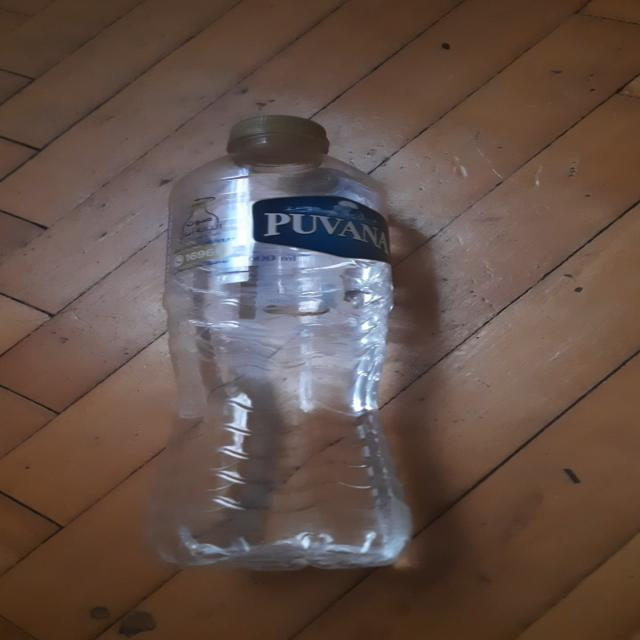Plastic: (166, 158, 417, 569), (226, 116, 331, 170)
